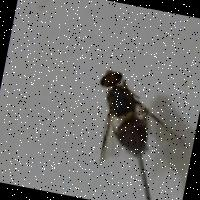Oriental-fruit-fly: (60, 53, 200, 190)
